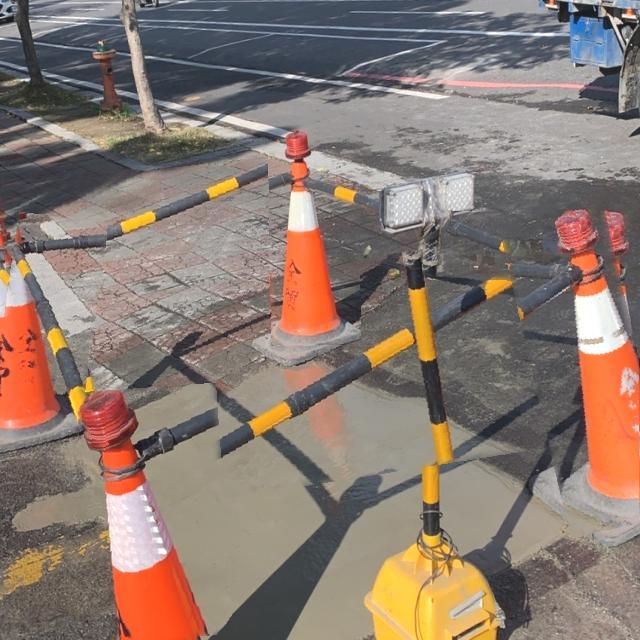bike: (136, 0, 161, 8)
car: (0, 0, 18, 26)
traffic cone: (78, 387, 221, 640), (554, 208, 640, 507), (267, 130, 362, 357), (0, 257, 62, 430), (91, 40, 123, 113)
